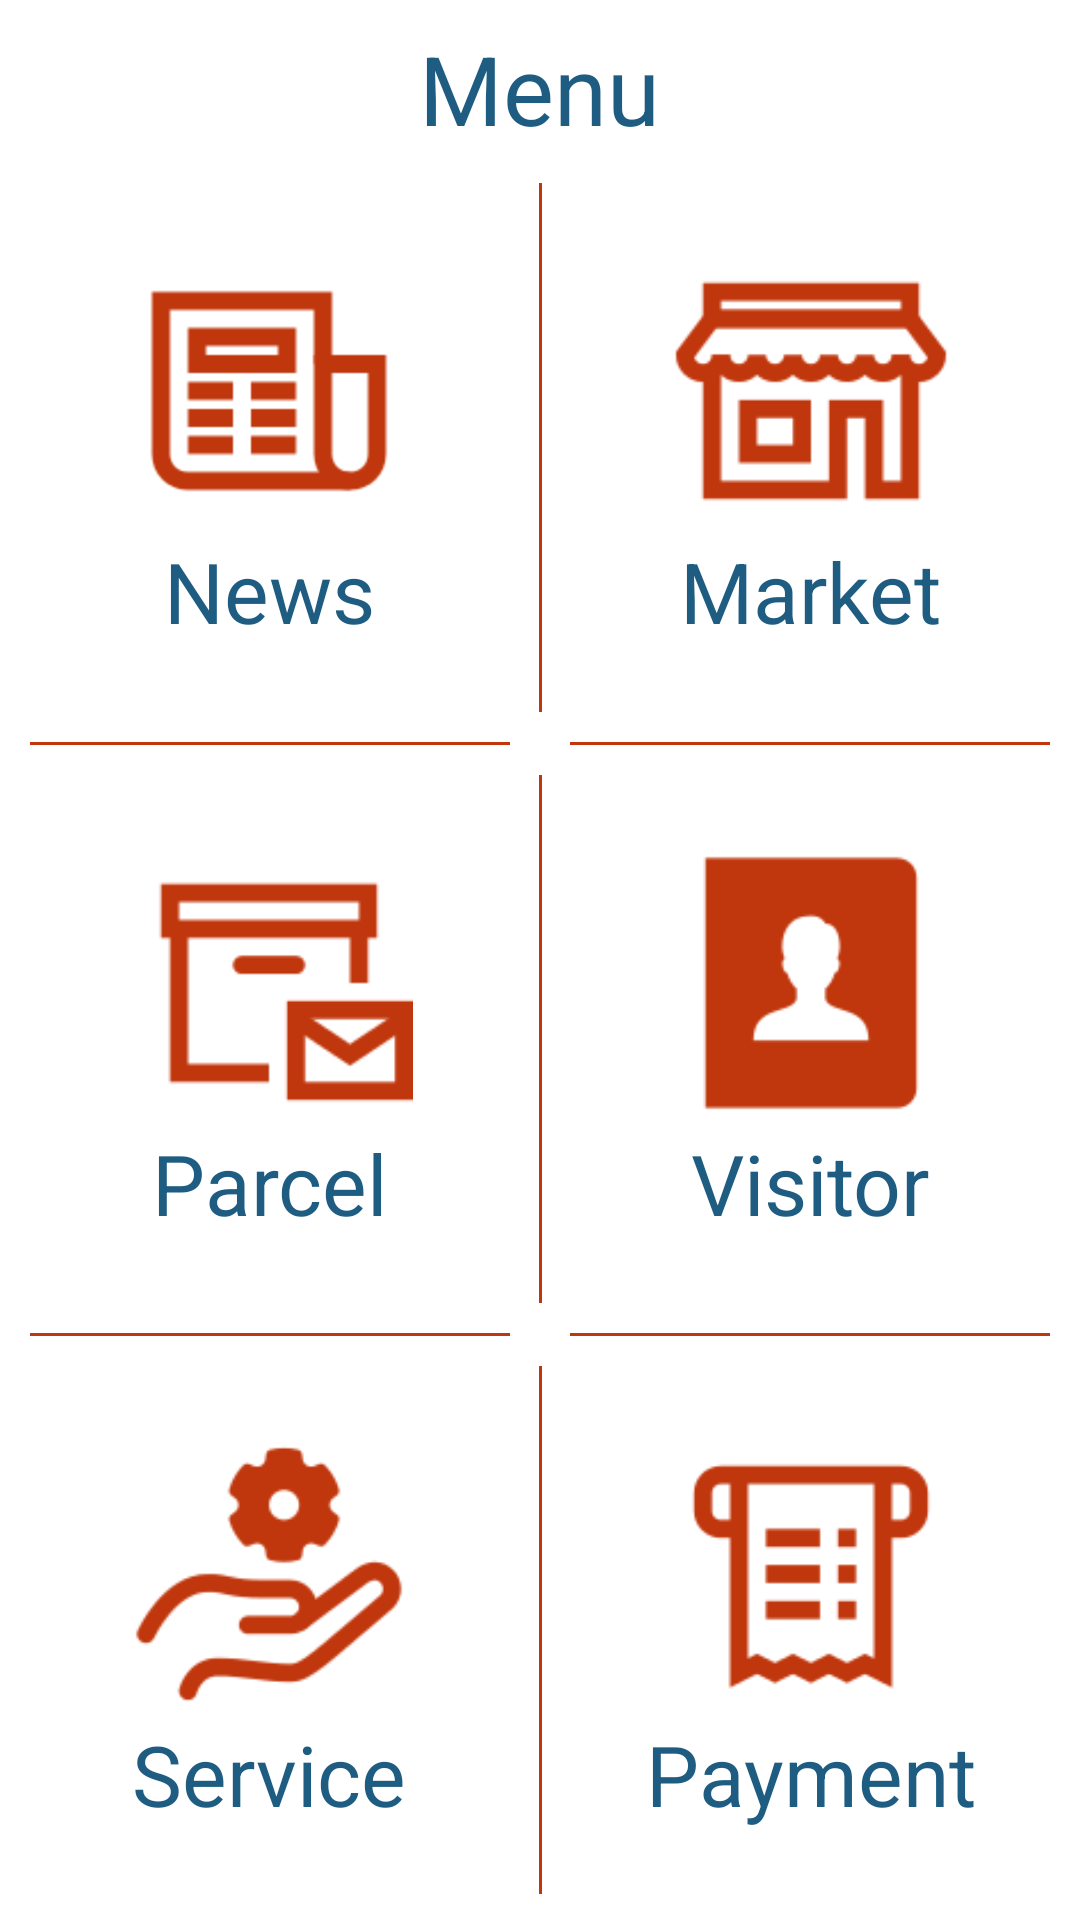

Locate icon controls on the screen. Image size 1080x1920, boxes as box(x1, y1, x2, y2).
contacts: box(704, 856, 918, 1109)
